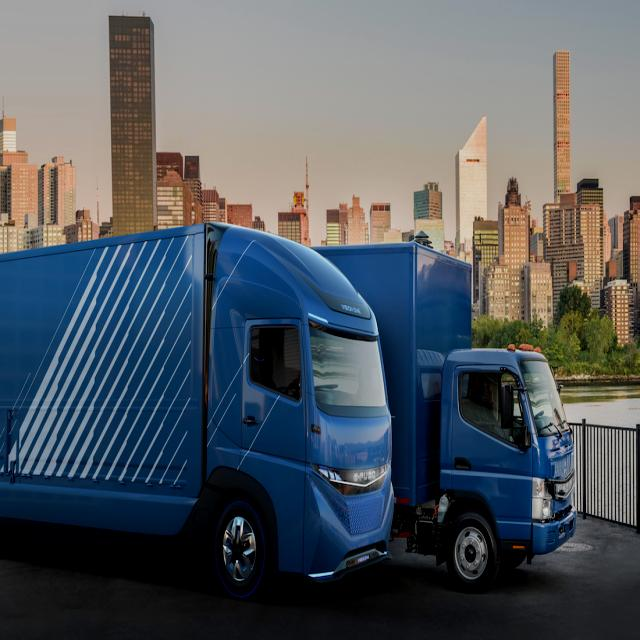truck: (1, 219, 396, 595), (311, 241, 577, 583)
